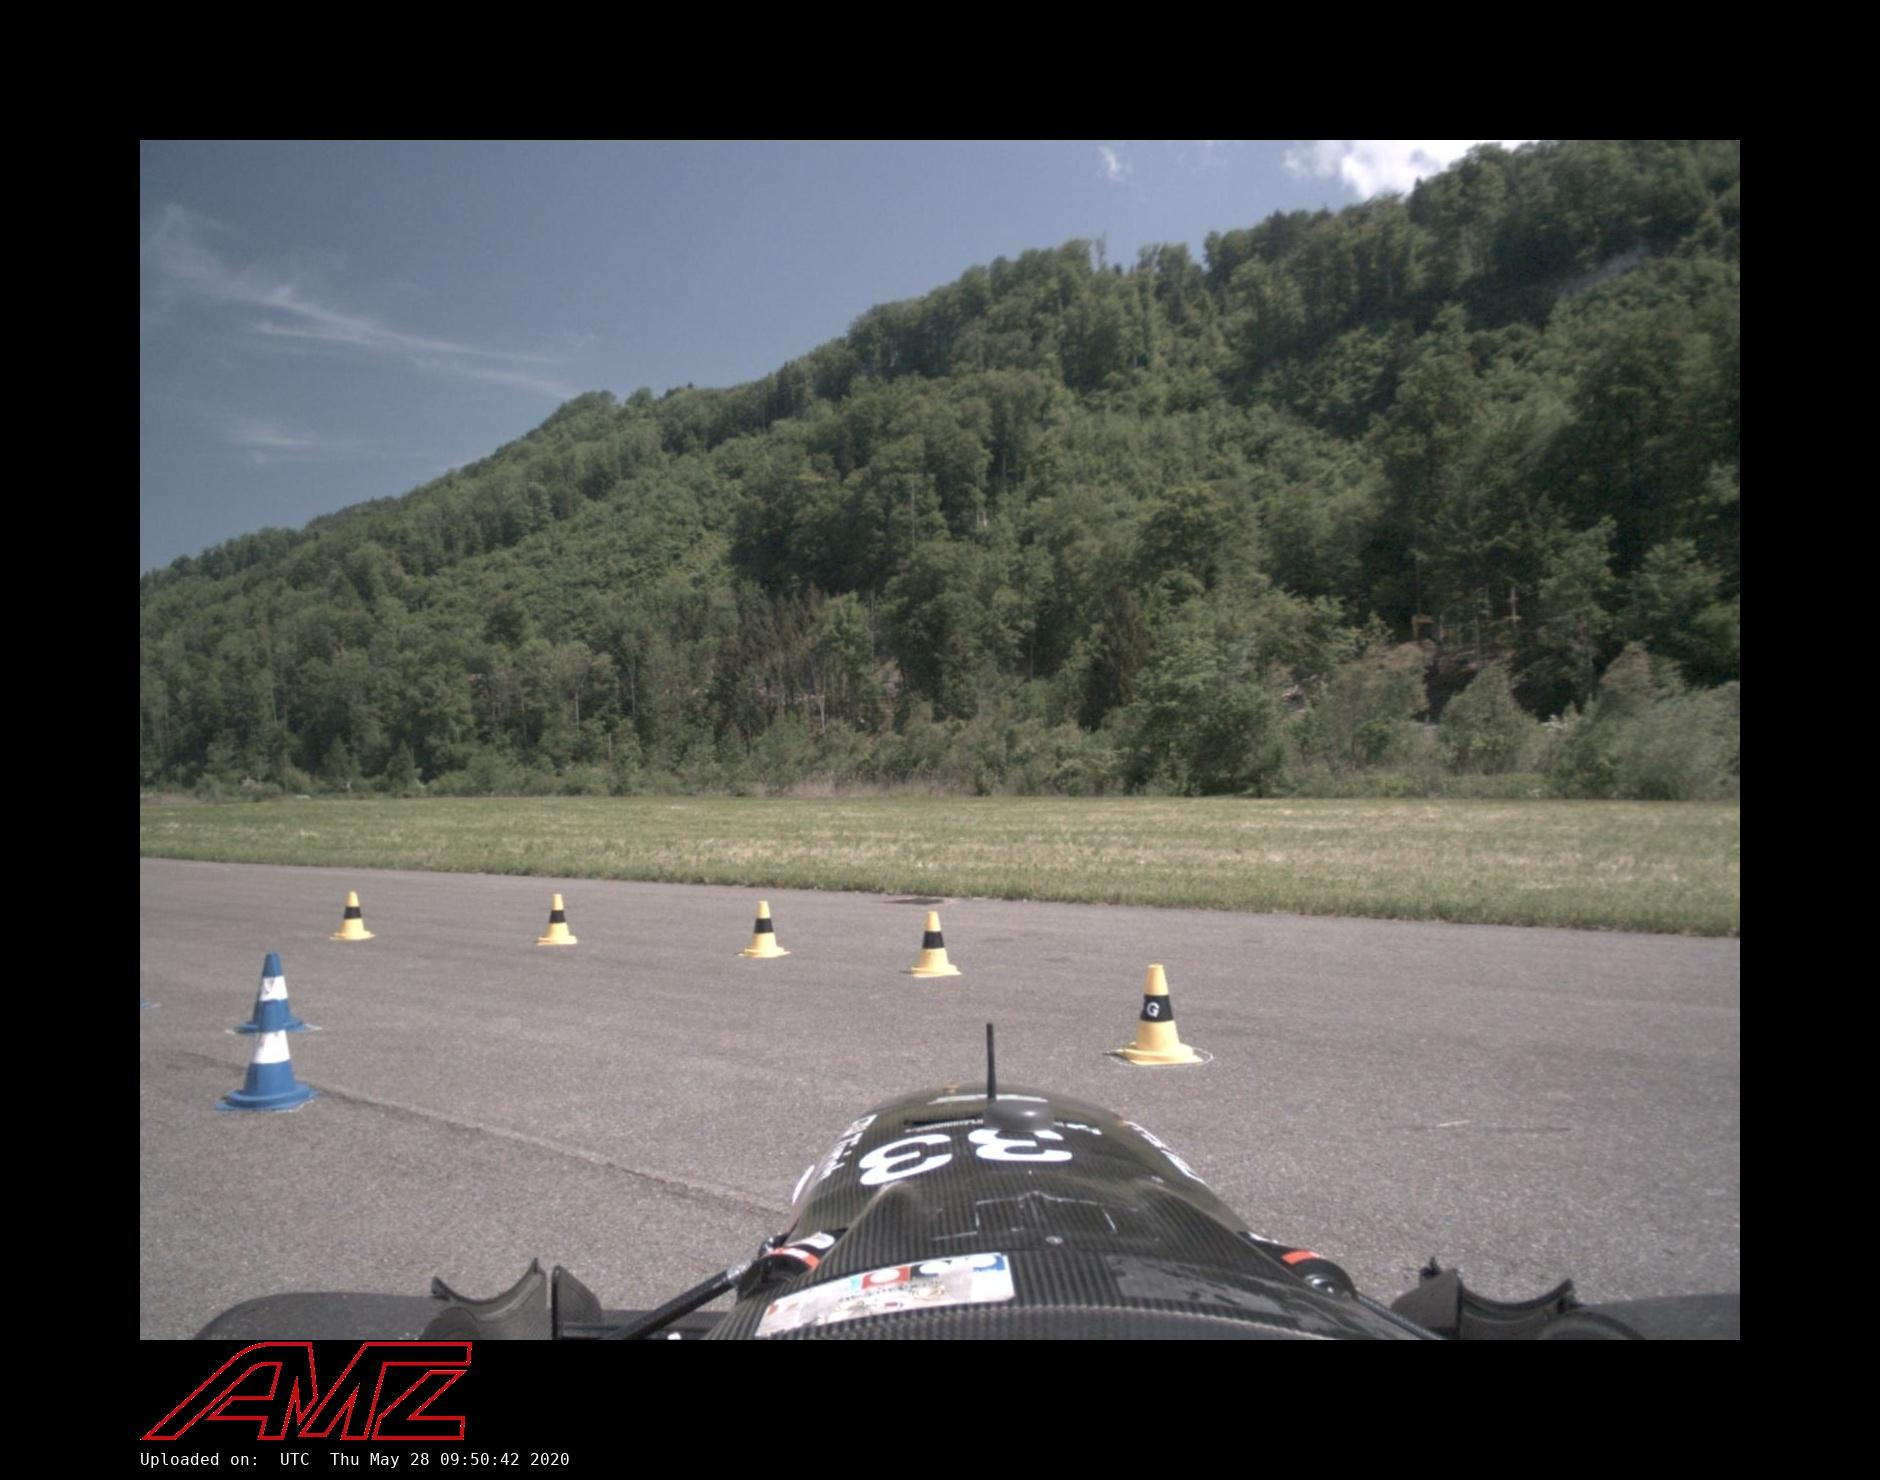blue_cone: (214, 999, 320, 1111), (233, 954, 308, 1034)
yellow_cone: (1115, 963, 1201, 1067), (900, 912, 961, 981), (739, 902, 790, 958), (330, 891, 374, 941), (536, 894, 577, 946)
